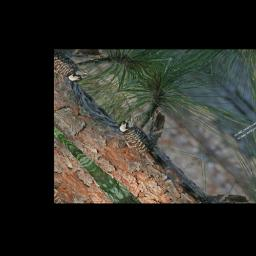Woodpecker: (104, 115, 180, 180)
